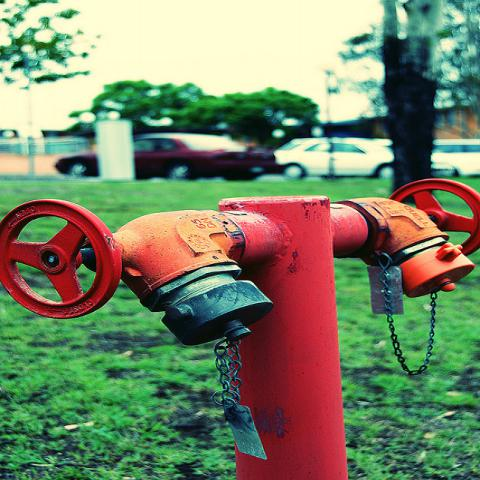car: (50, 132, 274, 182), (274, 138, 455, 181), (0, 99, 84, 140), (431, 138, 479, 177)
